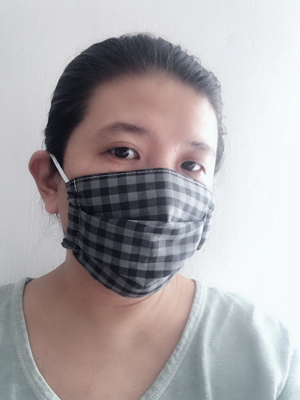with_mask: (60, 121, 219, 301)
